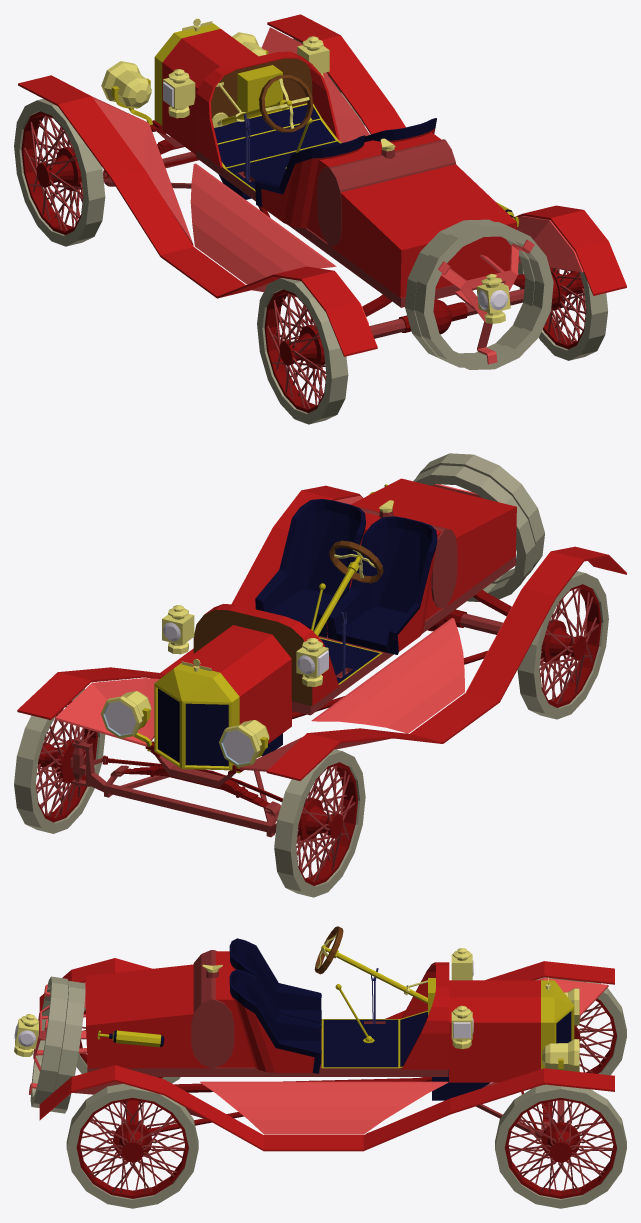
The picture shows the model from 3 angles, top to bottom: view 1: azimuth 30°, elevation 25°; view 2: azimuth 150°, elevation 25°; view 3: azimuth 270°, elevation 25°; orthographic projection. The views are drawn at different scales.
Parts seen in each view (by area): view 1: Cube.001, Cube.002, Cube.045, Cube, Cylinder.020, Cube.123, Cube.003, Cube.125, Cylinder.054, Cylinder.014, Cube.004, Cube.122 (+19 smaller); view 2: Cube.001, Cube.122, Cube.045, Cube.121, Cube.002, Cube.044, Cube.004, Cylinder.014, Cube.123, Cube.125, Cylinder.054, Cylinder (+18 smaller); view 3: Cube.001, Cube.002, Cube.045, Cube.004, Cube, Cube.121, Cylinder, Cylinder.016, Cube.003, Cube.123, Cube.122, Cylinder.020 (+21 smaller).
Boxes of the visible parts, bbox=[...] form: Cube.001: bbox=[18, 14, 626, 356]; Cube.002: bbox=[331, 164, 516, 297]; Cube.045: bbox=[190, 163, 336, 284]; Cube: bbox=[196, 103, 515, 307]; Cylinder.020: bbox=[414, 222, 553, 369]; Cube.123: bbox=[193, 51, 339, 167]; Cube.003: bbox=[317, 139, 455, 246]; Cube.125: bbox=[91, 27, 369, 245]; Cylinder.054: bbox=[257, 278, 348, 424]; Cylinder.014: bbox=[14, 98, 105, 246]; Cube.004: bbox=[162, 29, 258, 154]; Cube.122: bbox=[255, 135, 365, 228]; Cube.001: bbox=[17, 485, 626, 780]; Cube.122: bbox=[327, 516, 437, 654]; Cube.045: bbox=[311, 618, 464, 733]; Cube.121: bbox=[255, 499, 365, 637]; Cube.002: bbox=[351, 478, 516, 606]; Cube.044: bbox=[154, 663, 239, 770]; Cube.004: bbox=[183, 625, 291, 743]; Cylinder.014: bbox=[274, 749, 365, 897]; Cube.123: bbox=[193, 604, 339, 705]; Cube.125: bbox=[55, 678, 406, 771]; Cylinder.054: bbox=[517, 571, 608, 719]; Cylinder: bbox=[14, 688, 105, 833]; Cube.001: bbox=[39, 958, 614, 1151]; Cube.002: bbox=[86, 964, 210, 1068]; Cube.045: bbox=[200, 1081, 448, 1134]; Cube.004: bbox=[449, 980, 540, 1082]; Cube: bbox=[87, 1010, 448, 1076]; Cube.121: bbox=[229, 969, 321, 1073]; Cylinder: bbox=[495, 1084, 626, 1208]; Cylinder.016: bbox=[66, 1083, 198, 1208]; Cube.003: bbox=[191, 950, 234, 1068]; Cube.123: bbox=[401, 962, 449, 1069]; Cube.122: bbox=[229, 938, 321, 1023]; Cylinder.020: bbox=[30, 976, 68, 1107].
Bounding box in the file's own units: 453 × 343 × 928.
